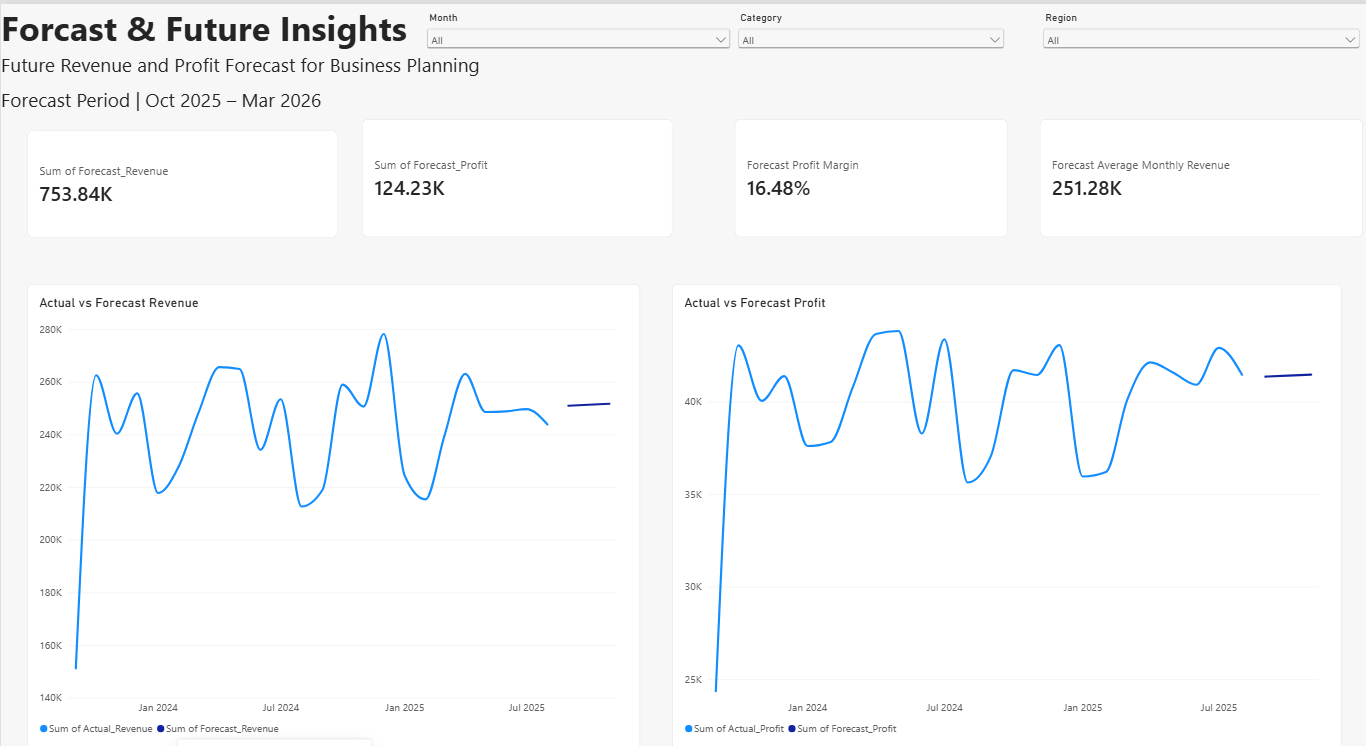

The dashboard page shown, as its layout file describes it:
{"tool":"powerbi","page":{"name":"Forecast & Future Insights","canvas":[1920,1080],"ordinal":0},"visuals":[{"type":"textbox","box":[0,0,588.9,65.9],"z":0},{"type":"textbox","box":[0,65.9,681.2,57.1],"z":1000},{"type":"textbox","box":[0,114.3,470.2,46.1],"z":6000},{"type":"slicer","fields":{"Values":["final_forecast.Month"]},"box":[590.1,10.7,433,150],"z":10003},{"type":"slicer","fields":{"Values":["final_forecast.Category"]},"box":[1023,10,381,150],"z":10004},{"type":"slicer","fields":{"Values":["final_forecast.Region"]},"box":[1449.6,10.7,451.1,74.8],"z":10005},{"type":"cardVisual","fields":{"Data":["Sum(final_forecast.Forecast_Revenue)"]},"box":[36.3,175.3,433,150],"z":10006},{"type":"cardVisual","fields":{"Data":["Sum(final_forecast.Forecast_Profit)"]},"box":[504.6,160.4,433,165],"z":10007},{"type":"cardVisual","fields":{"Data":["final_forecast.Forecast Profit Margin"]},"box":[1023,160,381,165],"z":10008},{"type":"cardVisual","fields":{"Data":["final_forecast.Forecast Average Monthly Revenue"]},"box":[1450,160,451,165],"z":10009},{"type":"lineChart","title":"Actual vs Forecast Revenue","fields":{"Y":["Sum(actual_forecast.Actual_Revenue)","Sum(actual_forecast.Forecast_Revenue)"],"Category":["actual_forecast.Month.Variation.Date Hierarchy.Year","actual_forecast.Month.Variation.Date Hierarchy.Month"]},"box":[36,390.8,855.5,652],"z":10010},{"type":"lineChart","title":"Actual vs Forecast Profit","fields":{"Y":["Sum(actual_forecast.Actual_Profit)","Sum(actual_forecast.Forecast_Profit)"],"Category":["actual_forecast.Month.Variation.Date Hierarchy.Year","actual_forecast.Month.Variation.Date Hierarchy.Month"]},"box":[936.6,390.8,934.8,652],"z":10011}]}

Visuals, with their boxes in screenshot pixels (x1, y1, x2, y2), scaled from the page's 1920x1080 canvas onto the 1366x746 screenshot:
textbox: 0/0/419/46
textbox: 0/46/485/85
textbox: 0/79/335/111
slicer - final_forecast.Month: 420/7/728/111
slicer - final_forecast.Category: 728/7/999/111
slicer - final_forecast.Region: 1031/7/1352/59
cardVisual - Sum(final_forecast.Forecast_Revenue): 26/121/334/225
cardVisual - Sum(final_forecast.Forecast_Profit): 359/111/667/225
cardVisual - final_forecast.Forecast Profit Margin: 728/111/999/224
cardVisual - final_forecast.Forecast Average Monthly Revenue: 1032/111/1352/224
"Actual vs Forecast Revenue" lineChart: 26/270/634/720
"Actual vs Forecast Profit" lineChart: 666/270/1331/720
